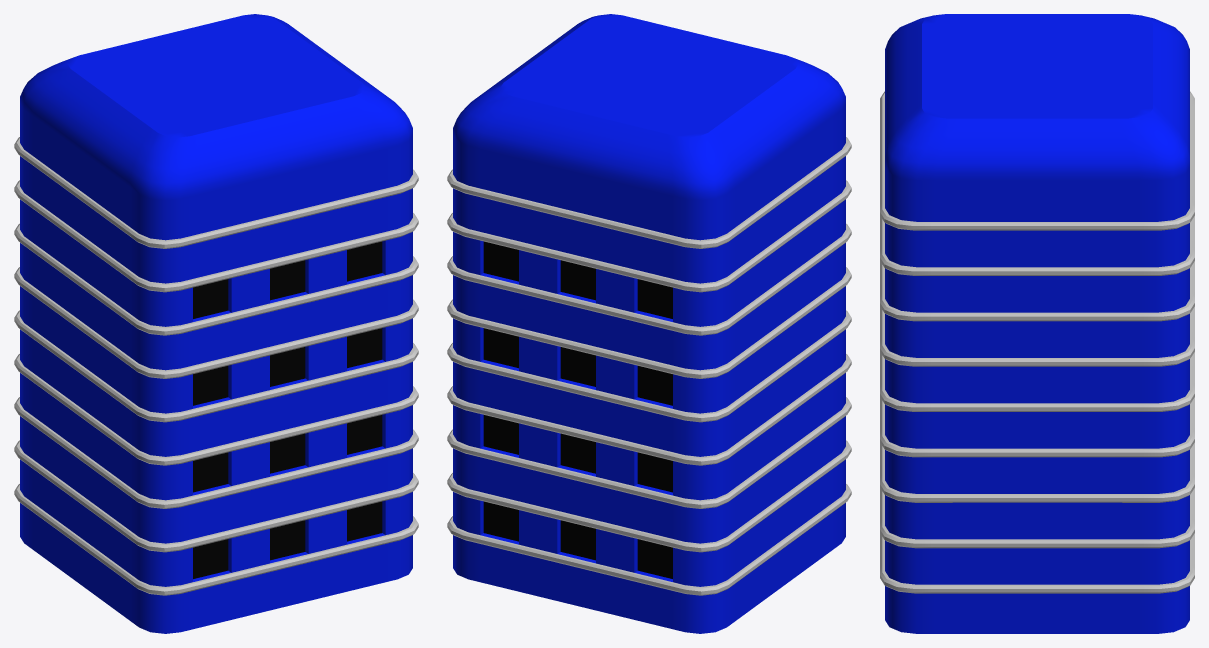
Rendered from Gökdelen.fbx.
3 views of the same model, side by side, from view 1: azimuth 30°, elevation 25°; view 2: azimuth 150°, elevation 25°; view 3: azimuth 270°, elevation 25° (orthographic). The views are drawn at different scales.
Parts seen in each view (by area): view 1: Cube.007; view 2: Cube.007; view 3: Cube.007.
Boxes of the visible parts, left/top/right/bottom form: Cube.007: left=14, top=14, right=418, bottom=633; Cube.007: left=447, top=14, right=851, bottom=633; Cube.007: left=880, top=14, right=1194, bottom=633.
Bounding box in the file's own units: 80.83 × 133 × 75.94.
